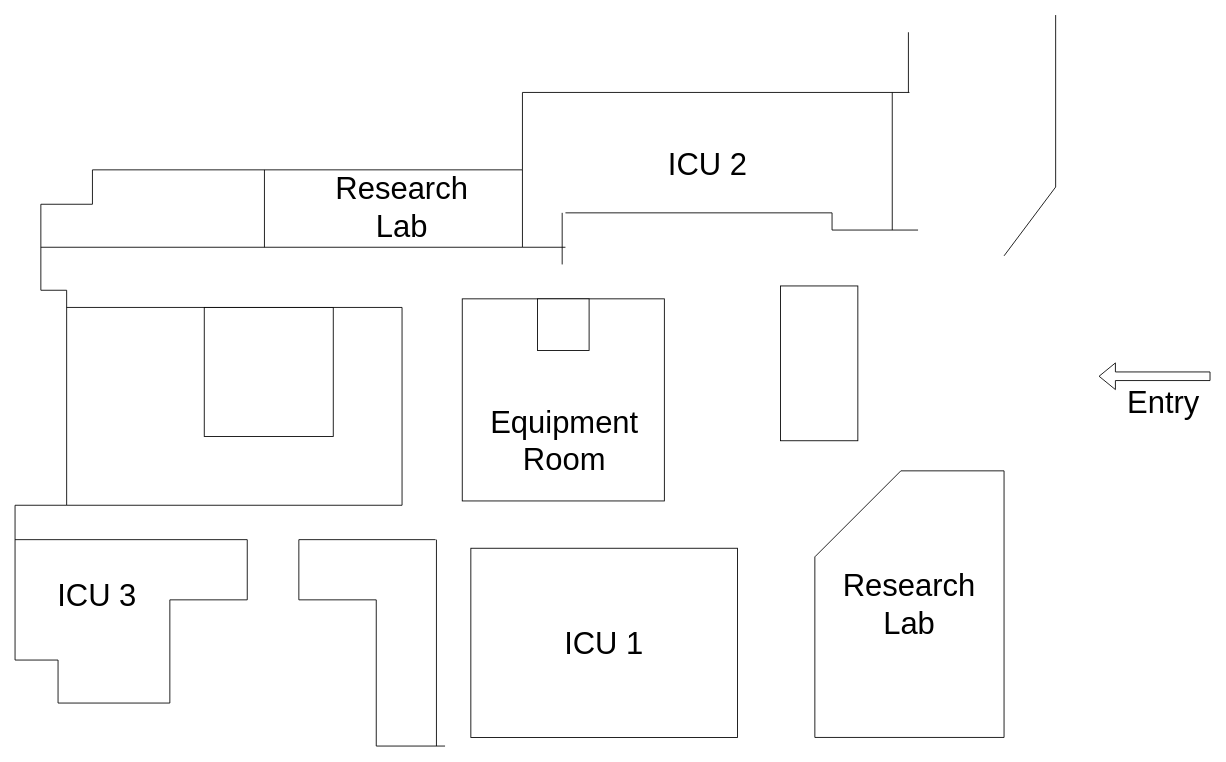
Image size: 1226x762. Some labels were removed from this diagram. Here are the shapes that lost their labels. From the top down, the box of each, then its label:
(203, 307, 333, 436): Courtyard
(780, 285, 858, 441): Help desk
